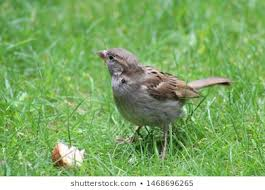home_sparrow: (94, 46, 234, 148)
